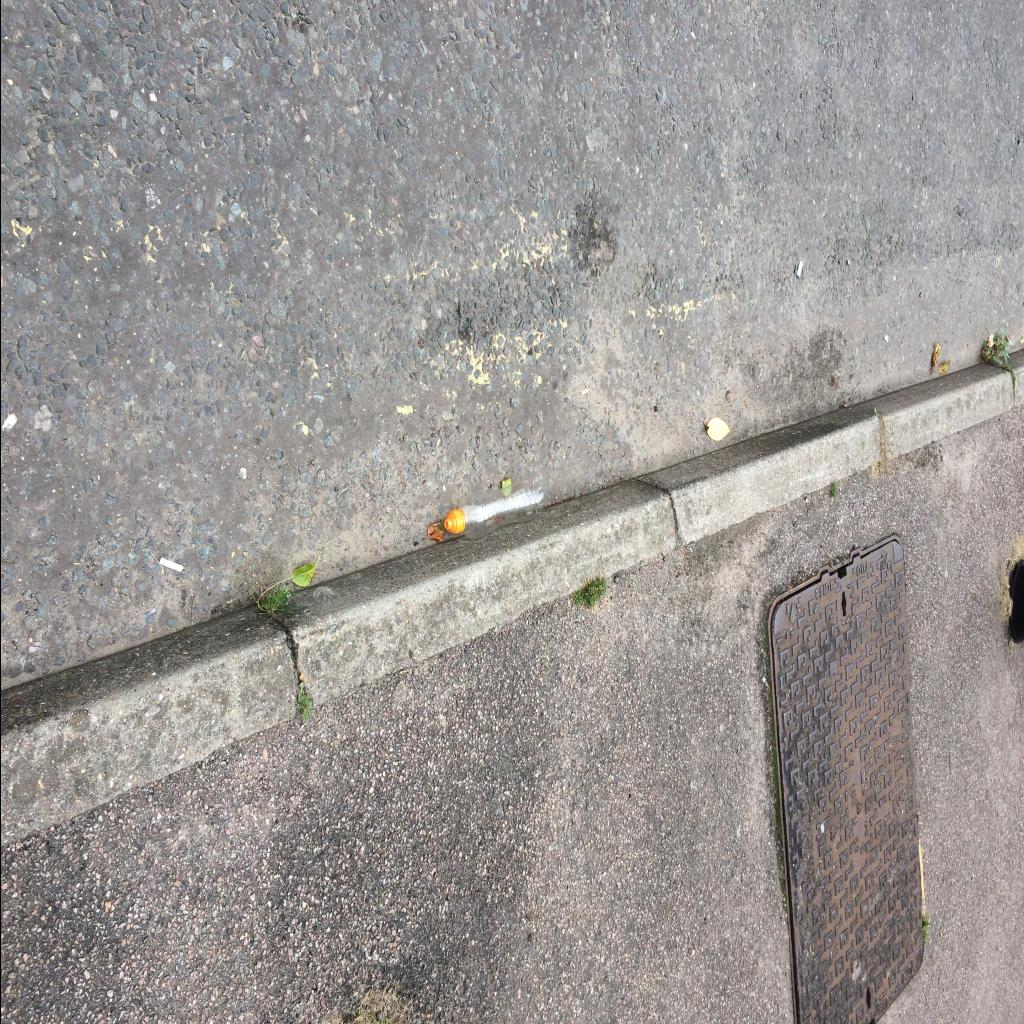Clear plastic bottle: (443, 474, 543, 538)
Unlabeled litter: (796, 260, 802, 278)
